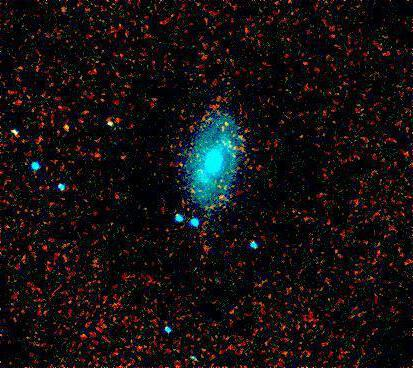star: (51, 116, 81, 146)
